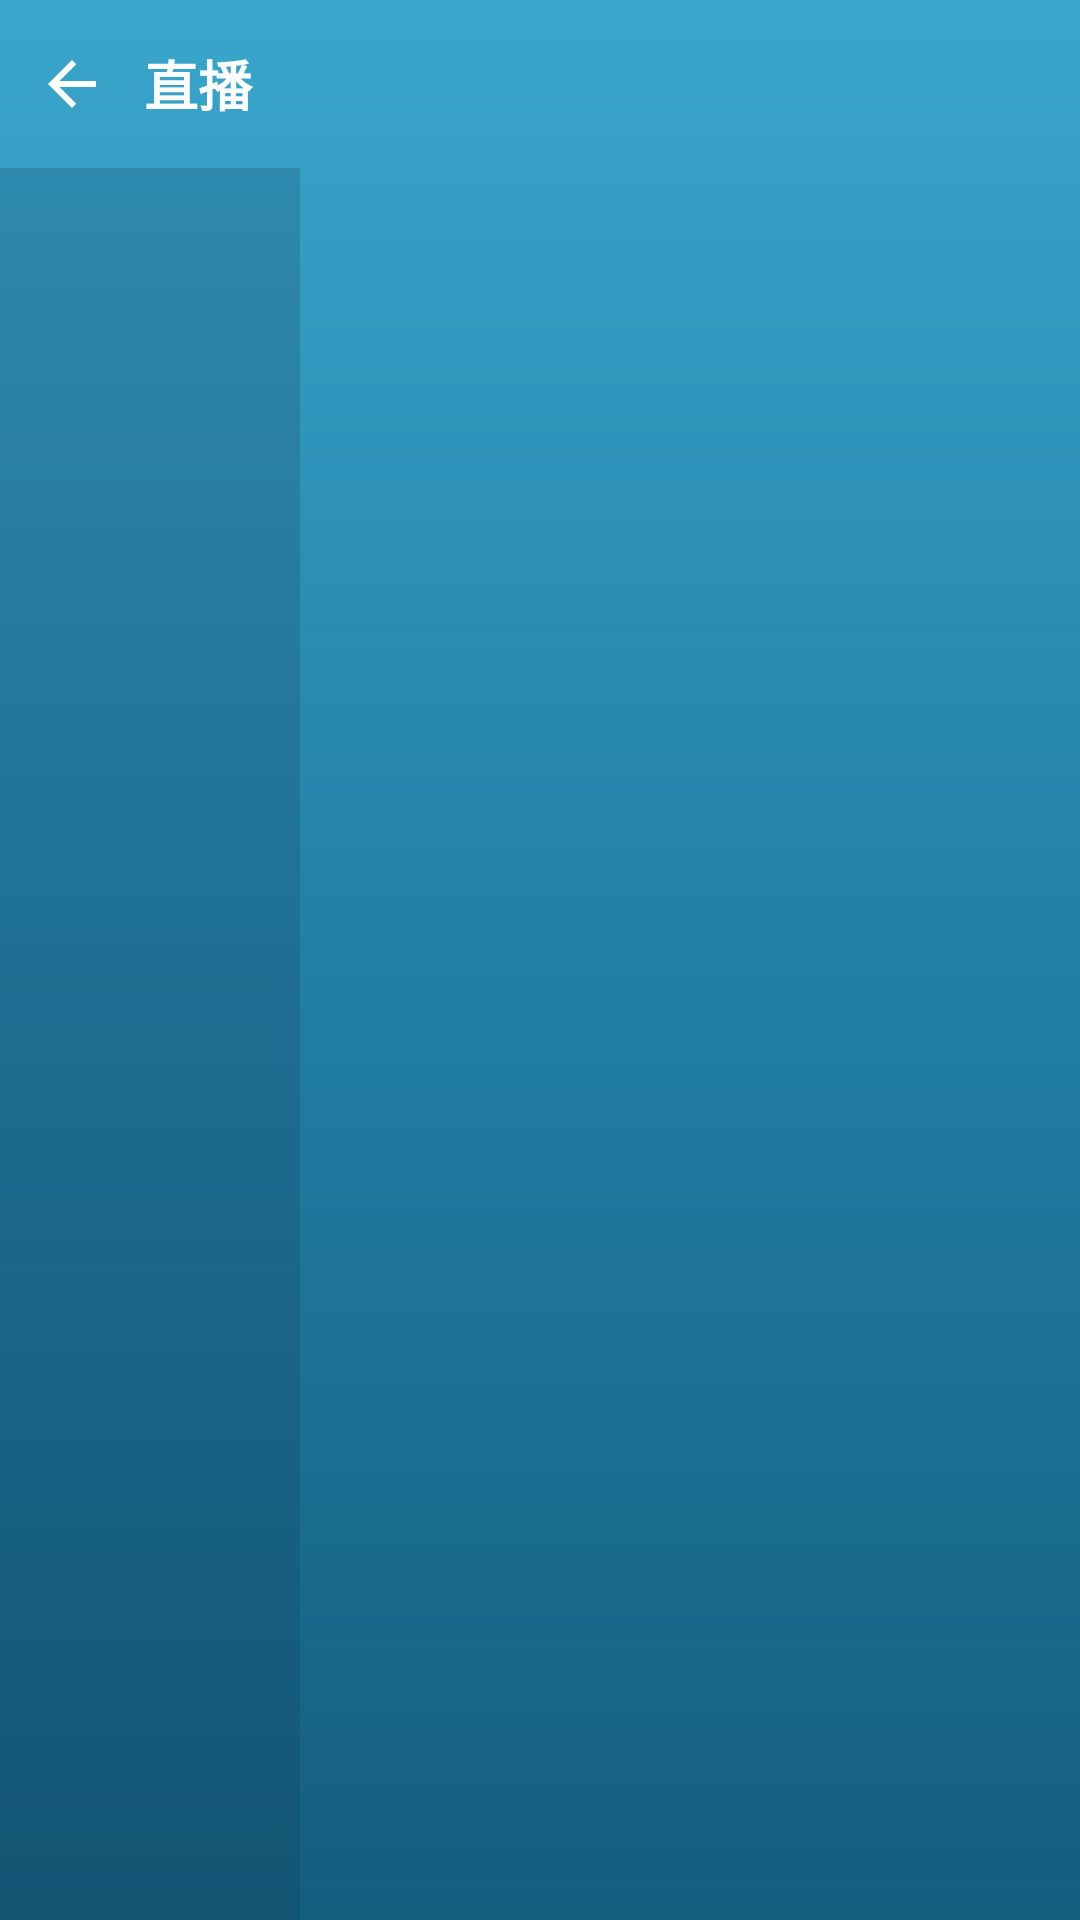

Icon click points for this 1080px x 1920px phone screenshot, format point (x, y):
back: point (72, 84)
